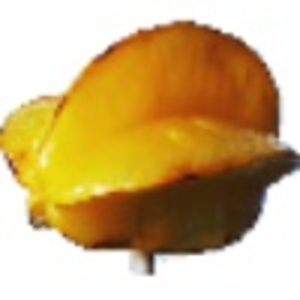carambola: (1, 18, 300, 276)
